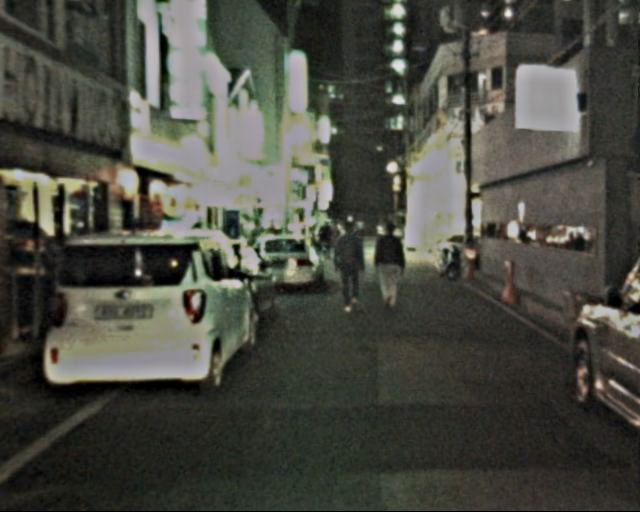person: (333, 224, 372, 318), (376, 224, 411, 307)
